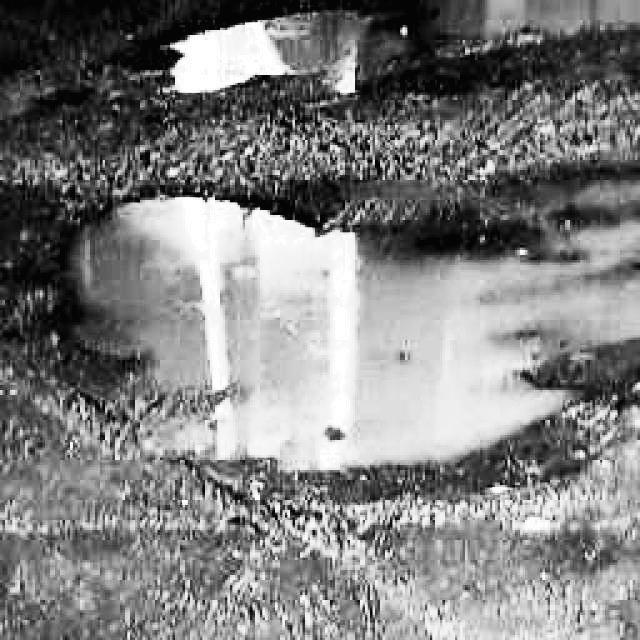Pothole: (37, 154, 640, 507), (149, 0, 640, 109)
